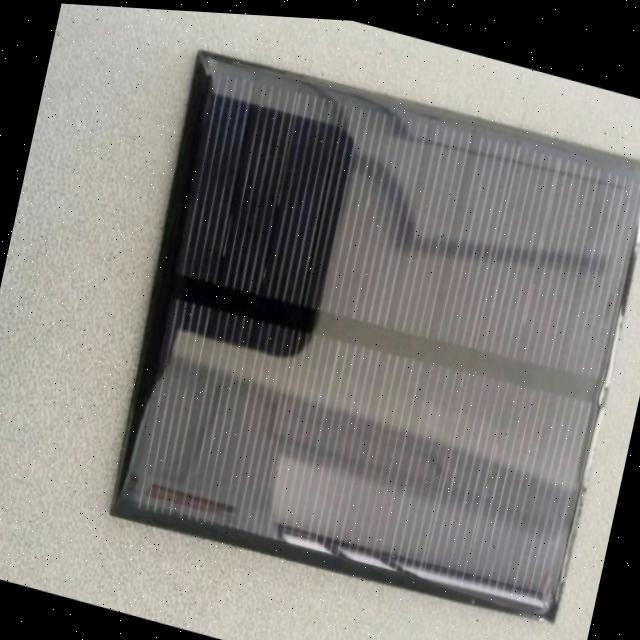Normal Solar Panel: (101, 38, 640, 631)
